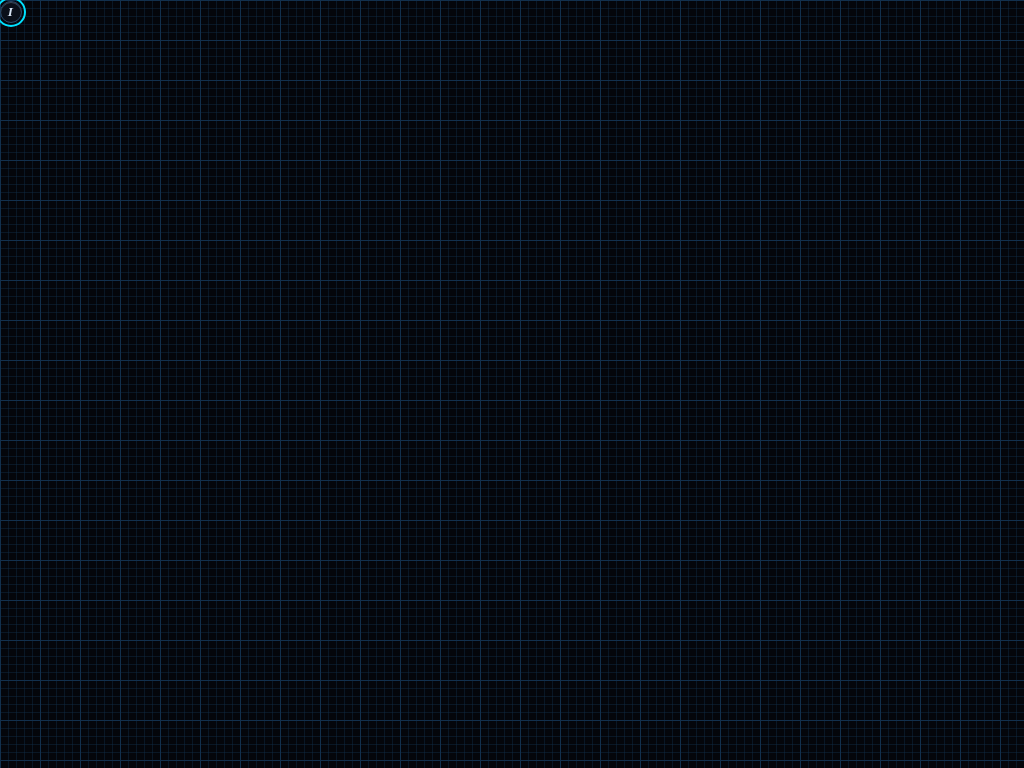
Scenario: InfoPopover › opens a dialog from the (i) button, closes on Escape and returns focus
Click the button named "About Morphology".
click(11, 12)  # box [0,1,22,23]
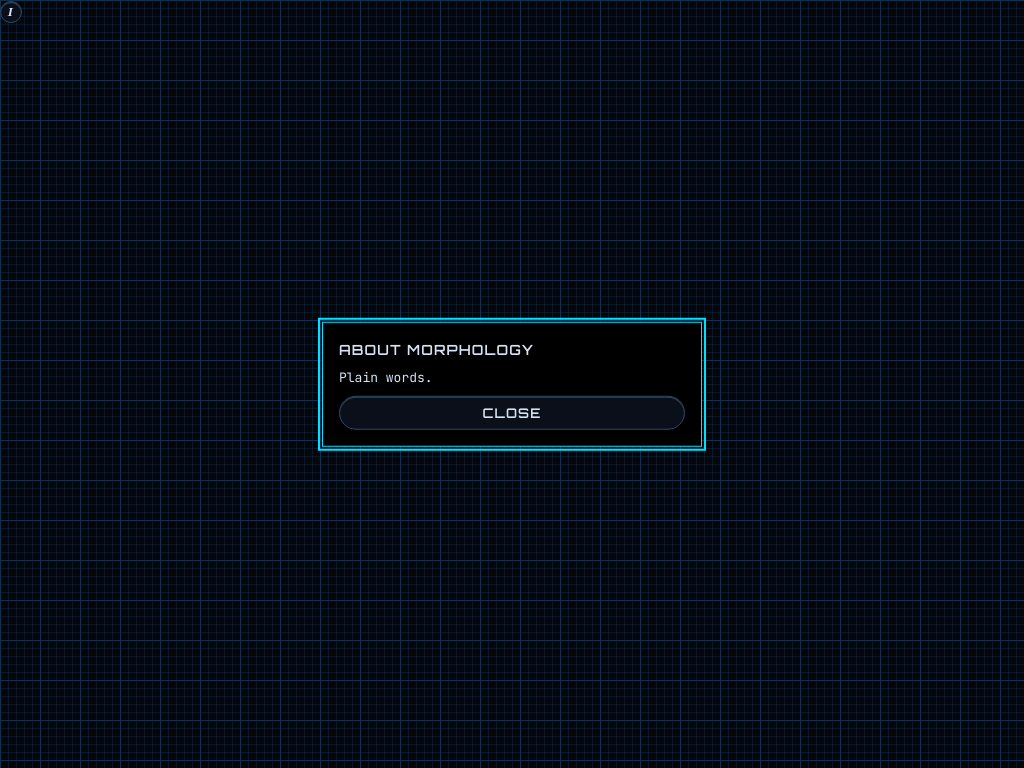
Now the dialog "About morphology" shows "Plain words.", box [339,369,433,386]
Now the button named "About Morphology" is expanded, box [0,1,22,23]
Press Escape in the dialog "About morphology", box [322,322,702,446]
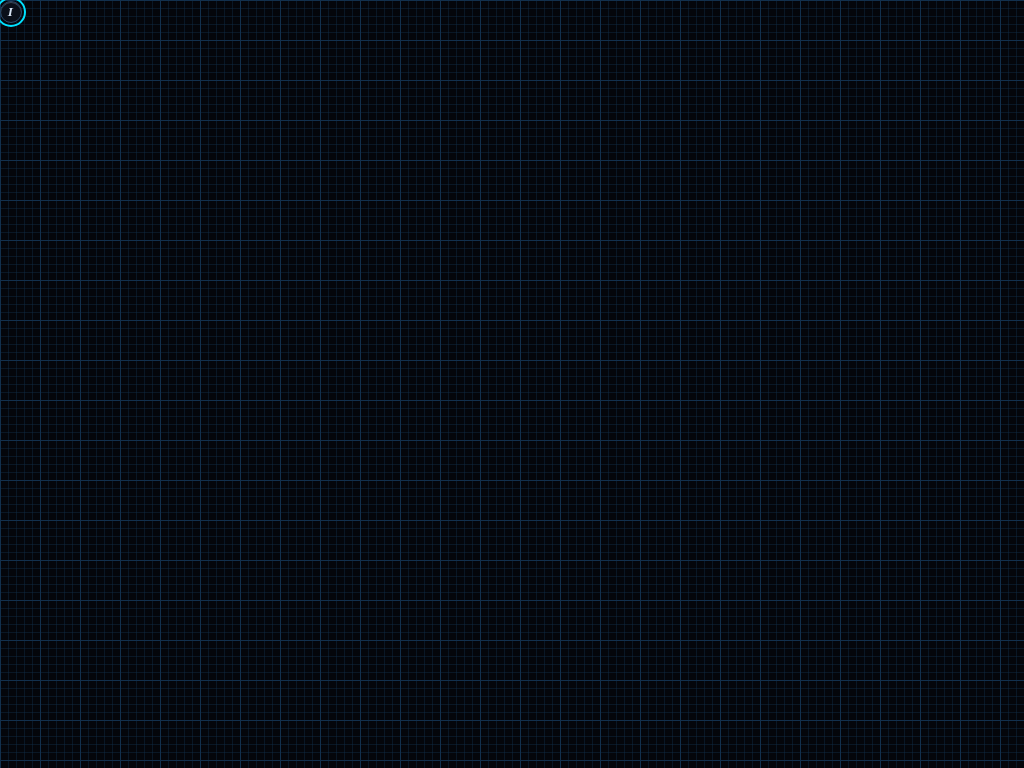
Now the dialog is gone
